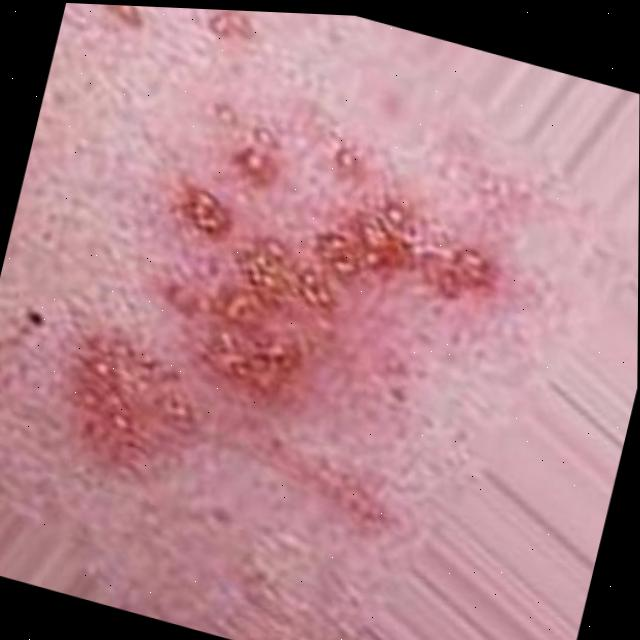Shingles: (59, 82, 528, 548), (206, 9, 256, 50), (102, 5, 146, 36)
